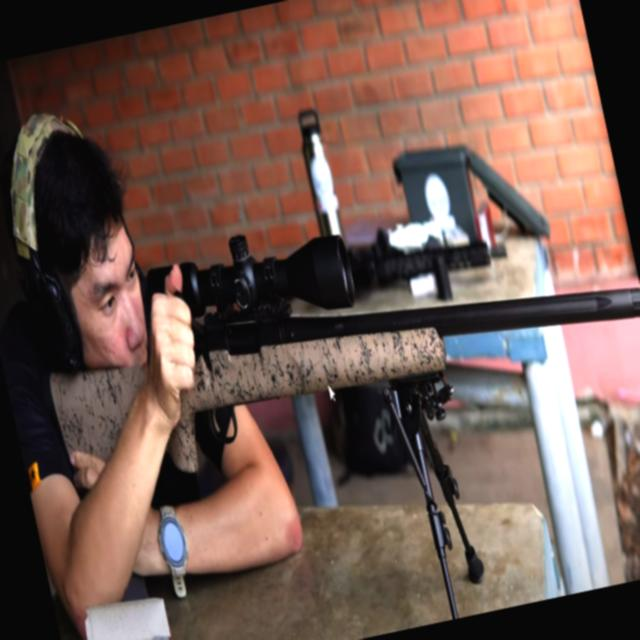rifle: (19, 150, 640, 640)
